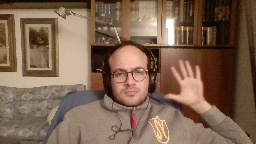Mano_aperta: (160, 56, 205, 107)
